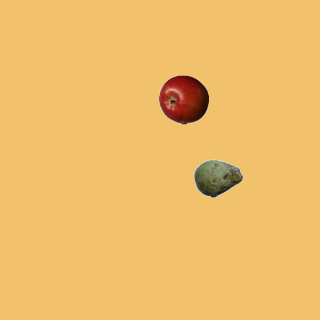Apple Braeburn: (158, 74, 208, 124)
Pear Stone: (193, 153, 243, 203)
